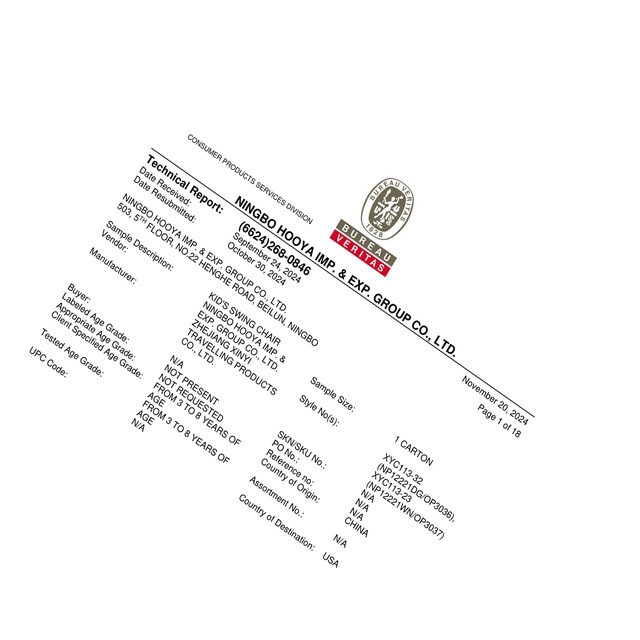bureau_veritas: (332, 176, 414, 278)
